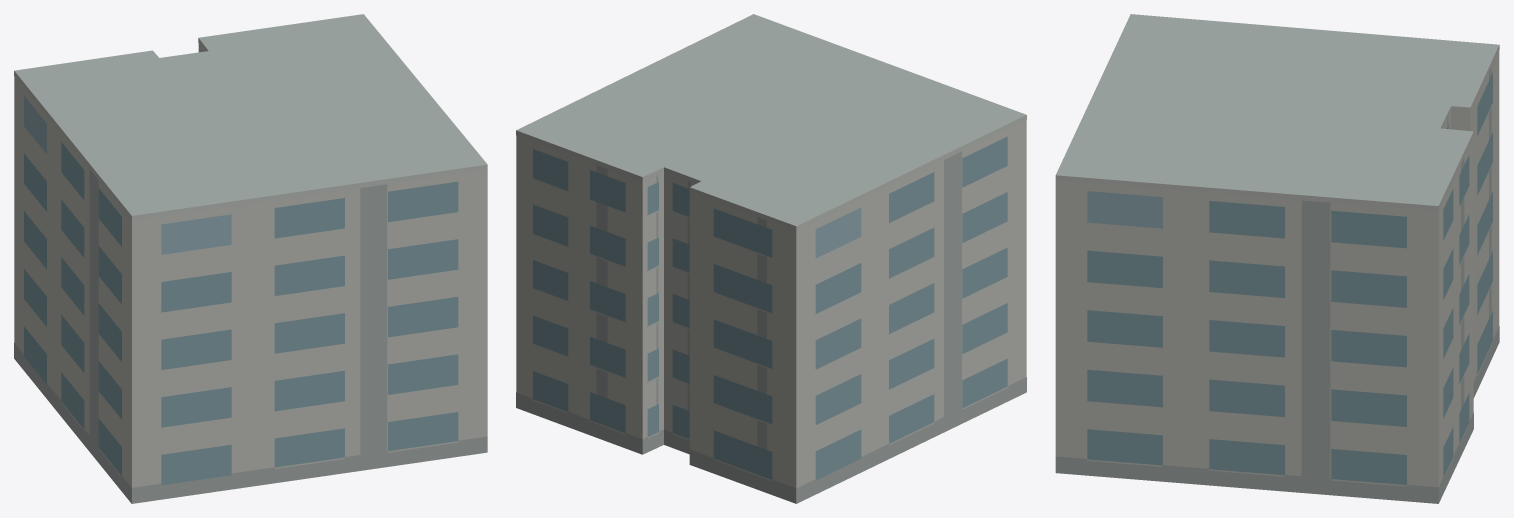
File: survey-upis-32995329.glb
3 views of the same model, side by side, from view 1: azimuth 30°, elevation 25°; view 2: azimuth 150°, elevation 25°; view 3: azimuth 270°, elevation 25° (orthographic). The views are drawn at different scales.
Visible parts, largest first — view 1: survey-upis-32995329.tmp; view 2: survey-upis-32995329.tmp; view 3: survey-upis-32995329.tmp.
Part boxes in pixels (left/top/right/bottom): survey-upis-32995329.tmp: left=14, top=14, right=487, bottom=503; survey-upis-32995329.tmp: left=516, top=14, right=1026, bottom=503; survey-upis-32995329.tmp: left=1055, top=14, right=1499, bottom=503.
Bounding box in the file's own units: 18.61 × 13.44 × 18.17.
